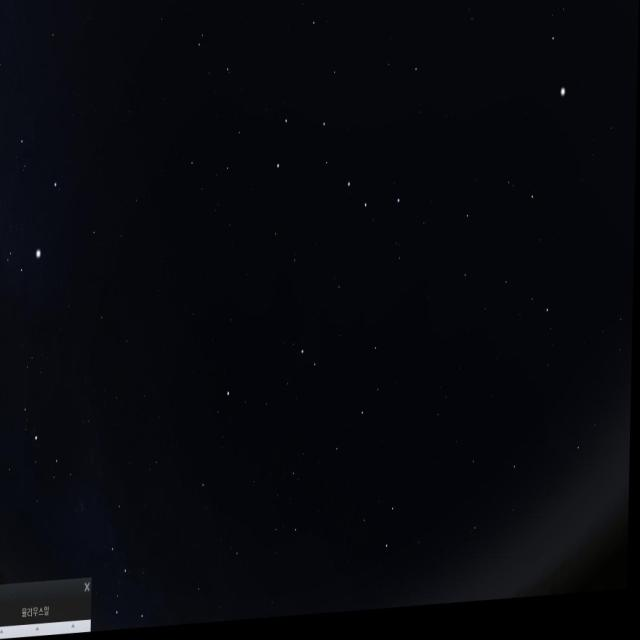cassiopeia: (108, 500, 154, 632)
ursa_major: (264, 102, 414, 240)
